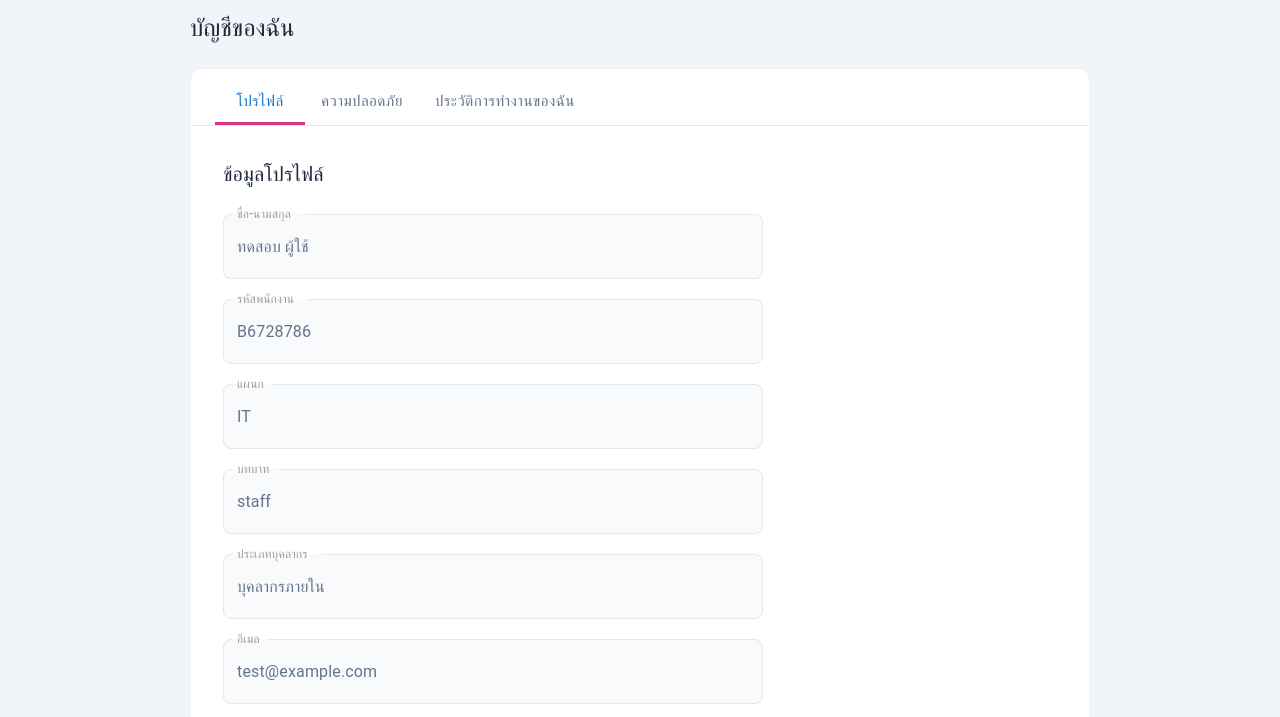
Test: EmployeeAccountPage — ActivityTab › shows error when activity fetch fails
Click the tab "ประวัติการทำงานของฉัน" at (505, 101), box x1=419 y1=77 x2=591 y2=125
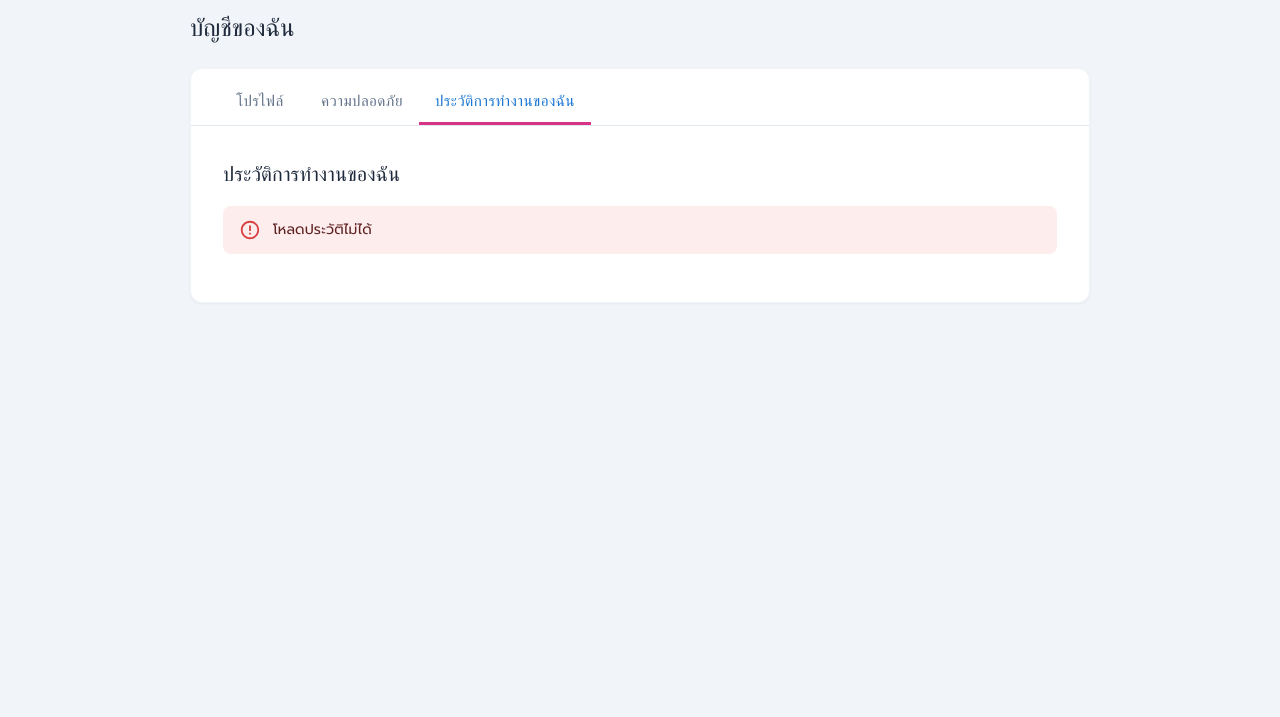
Expected: the text "โหลดประวัติไม่ได้" is shown, x1=273 y1=219 x2=372 y2=240
